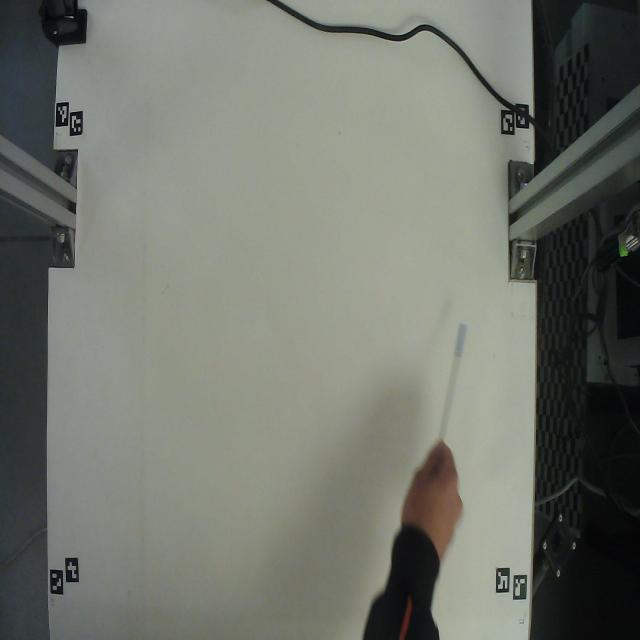NoPres: (426, 290, 484, 474)
